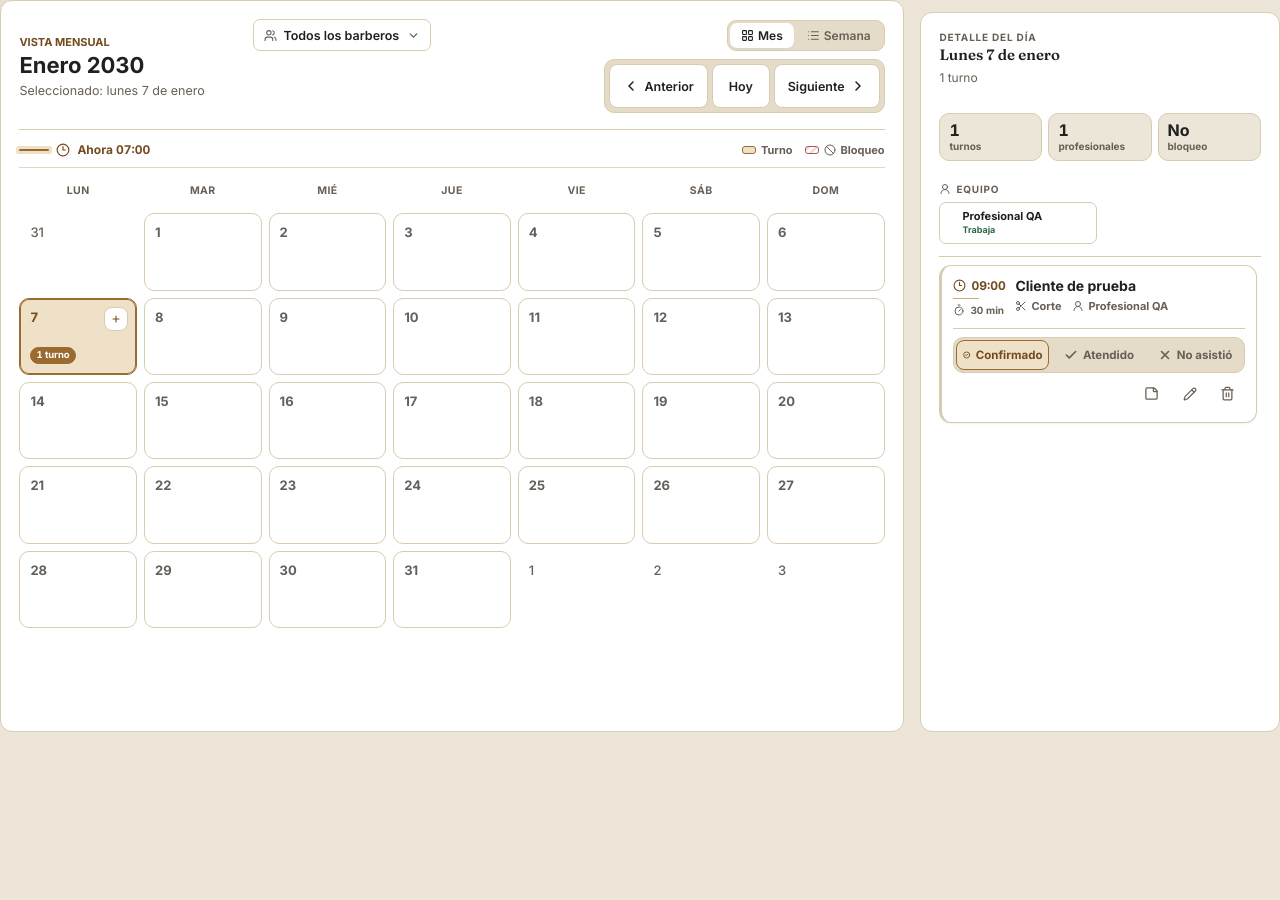
Scenario: arrastre del calendario › cancela sin guardar al recibir desmontar
The width and height of the screenshot is (1280, 900).
Step 1. Click the button "Semana" → (839, 35), box [796,23,882,48]
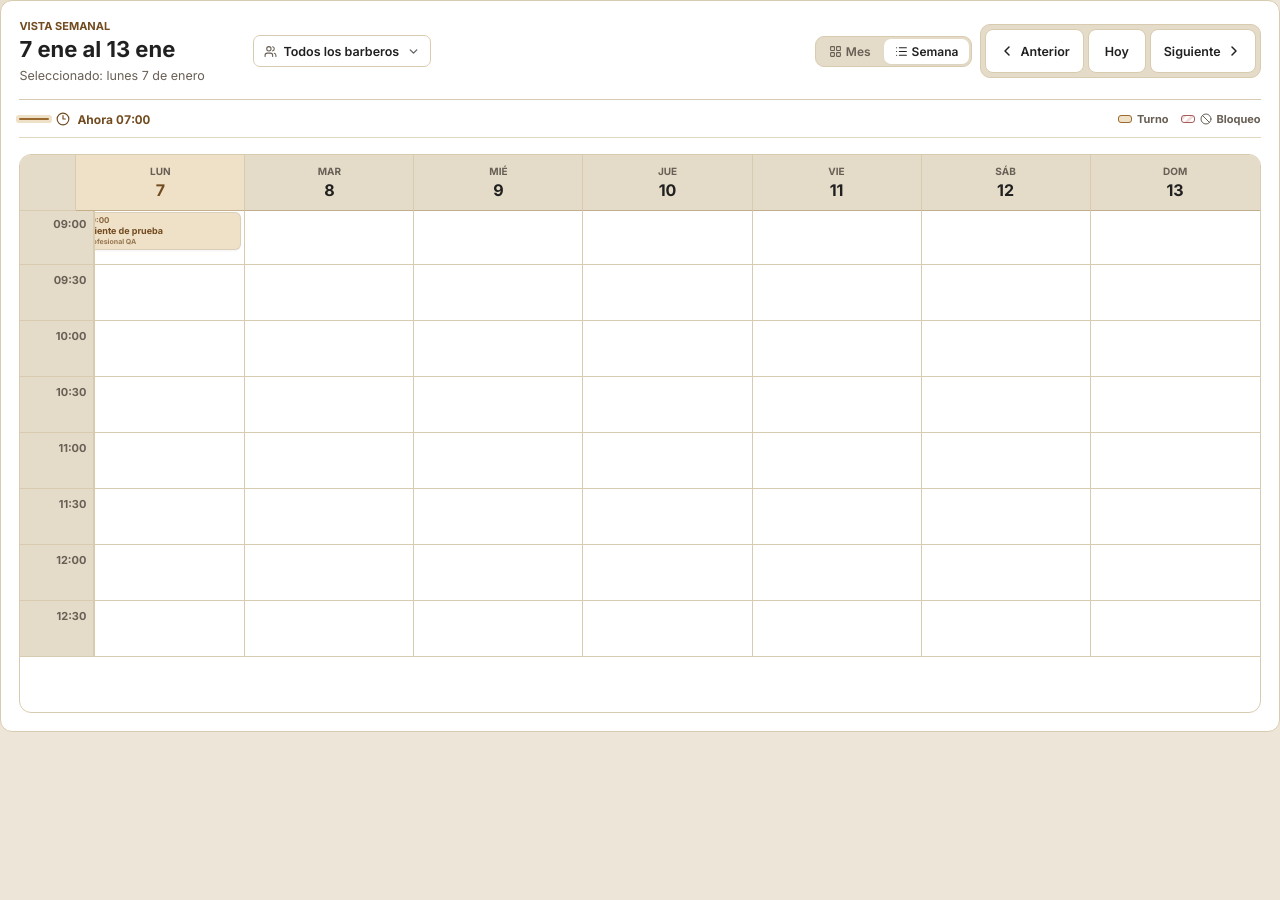
Step 2. Press the mouse on the button with class "week-chip--draggable" → (160, 231), box [79,212,241,250]
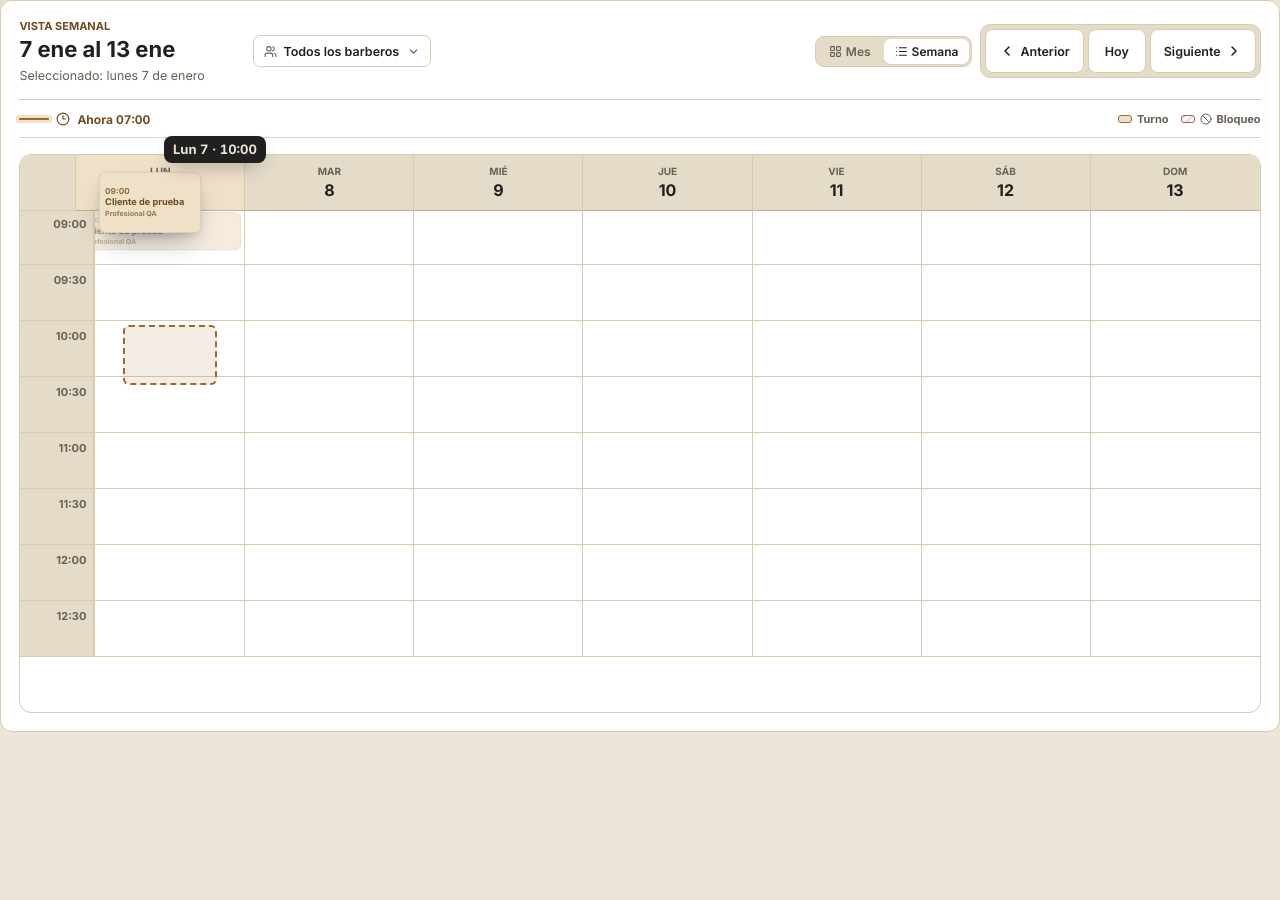
Now the button with class "week-chip-ghost" is shown, box [99,172,201,233]
